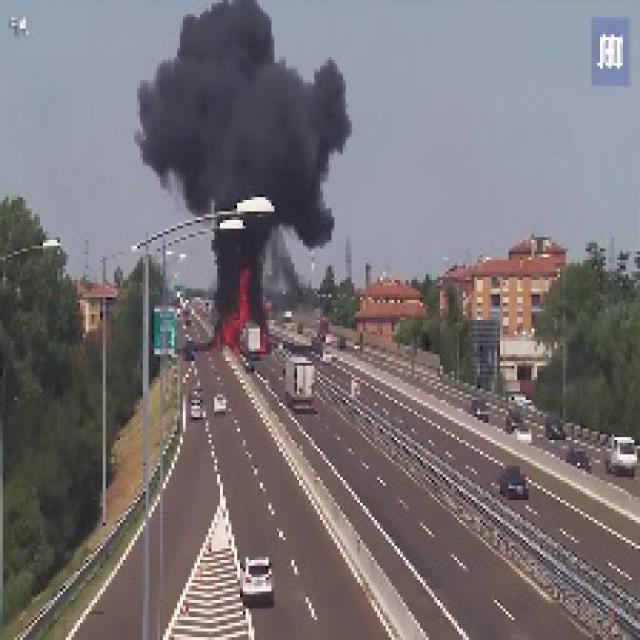fire: (203, 263, 271, 360)
